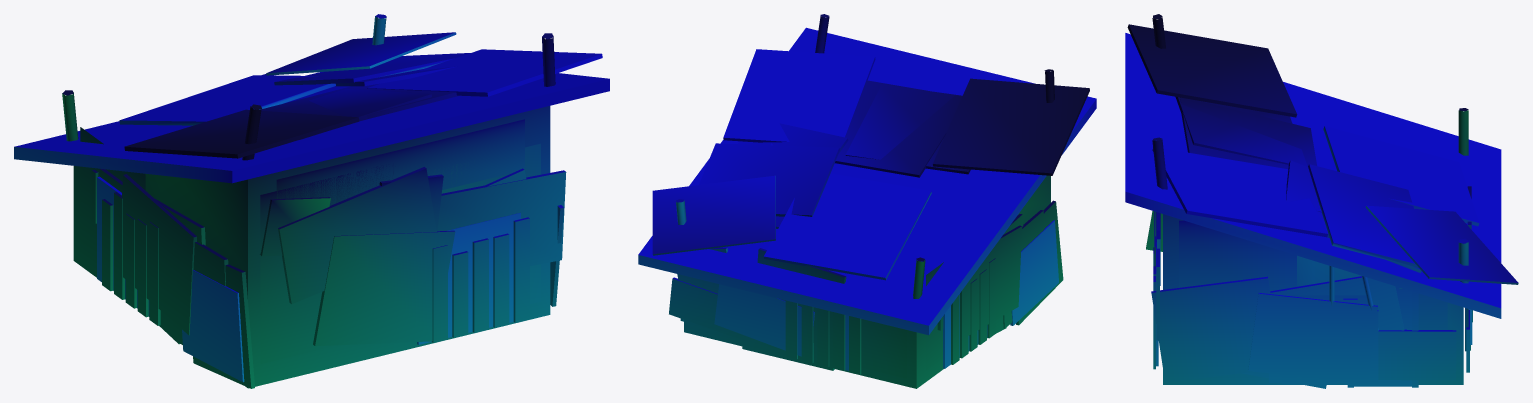
File: crashshanty1_damaged.glb
3 renders of one model, left to right at view 1: azimuth 30°, elevation 25°; view 2: azimuth 150°, elevation 25°; view 3: azimuth 270°, elevation 25°, orthographic. The views are drawn at different scales.
Visible parts, largest first — view 1: lod0; view 2: lod0; view 3: lod0.
Boxes of the visible parts, x1,y1,x2,y2 form: lod0: (14, 14, 609, 388); lod0: (638, 14, 1096, 388); lod0: (1125, 14, 1518, 388).
Size of what is drawn, in the model's own units: 7.99 by 5.16 by 7.33.
